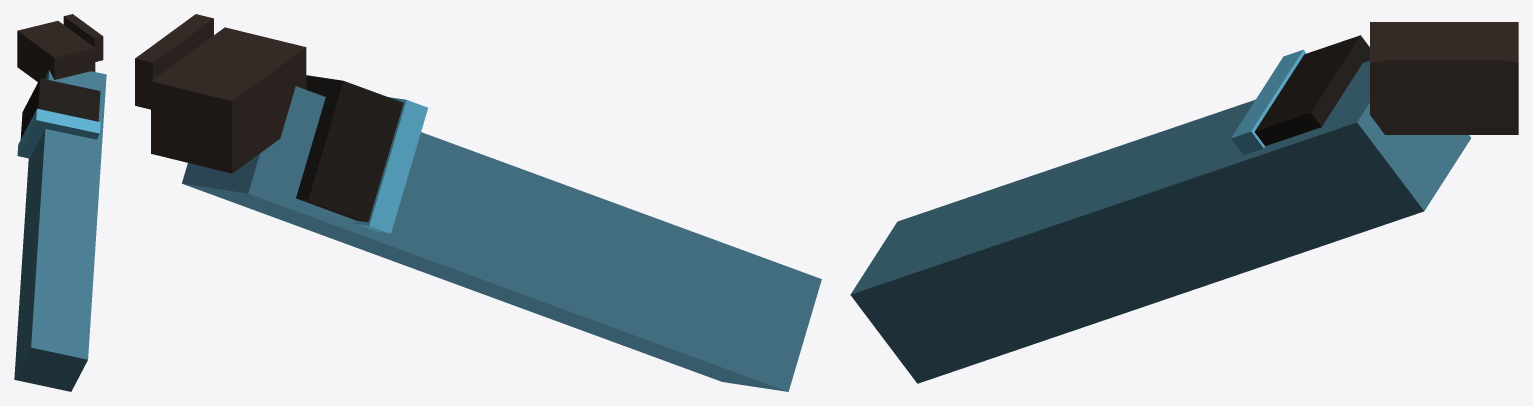
The model's file is BO_SM_Arms_FalconL_v001.glb.
3 views of the same model, side by side, from view 1: azimuth 30°, elevation 25°; view 2: azimuth 150°, elevation 25°; view 3: azimuth 270°, elevation 25° (orthographic). The views are drawn at different scales.
Parts seen in each view (by area): view 1: body_004, body_000, body_002, body_003, body_001; view 2: body_004, body_000, body_002, body_003, body_001; view 3: body_004, body_000, body_001, body_002, body_003.
Part boxes in pixels (<box>): body_004: <box>14,70,106,391</box>; body_000: <box>17,21,95,81</box>; body_002: <box>20,78,100,139</box>; body_003: <box>17,108,100,158</box>; body_001: <box>63,14,103,61</box>; body_004: <box>182,86,821,391</box>; body_000: <box>151,27,306,173</box>; body_002: <box>296,75,403,222</box>; body_003: <box>355,97,427,233</box>; body_001: <box>135,14,213,109</box>; body_004: <box>850,61,1470,383</box>; body_000: <box>1370,22,1518,134</box>; body_001: <box>1383,51,1505,107</box>; body_002: <box>1254,35,1369,145</box>; body_003: <box>1231,49,1306,155</box>.
Size of the model in its own units: 0.2557 by 0.2954 by 0.382.
